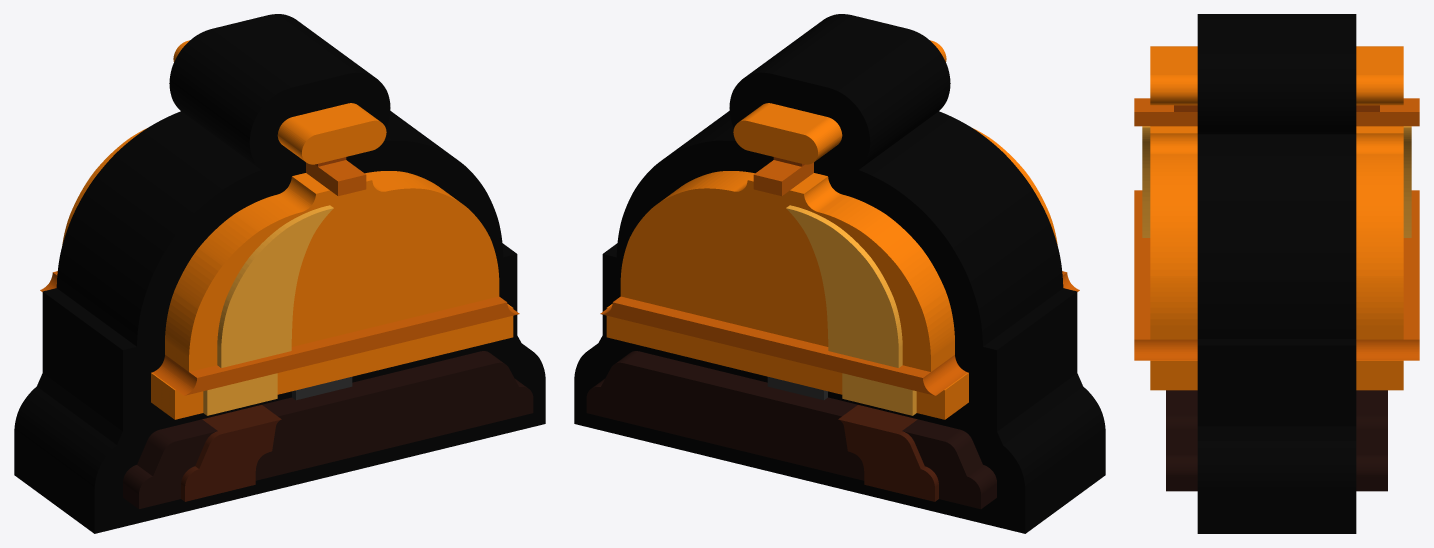
3 views of the same model, side by side, from view 1: azimuth 30°, elevation 25°; view 2: azimuth 150°, elevation 25°; view 3: azimuth 270°, elevation 25° (orthographic).
Parts seen in each view (by area): view 1: U+1F6CE_layer00_obj00, U+1F6CE_layer06_obj00, U+1F6CE_layer04_obj00, U+1F6CE_layer07_obj00, U+1F6CE_layer08_obj00, U+1F6CE_layer05_obj00, U+1F6CE_layer01_obj00; view 2: U+1F6CE_layer00_obj00, U+1F6CE_layer06_obj00, U+1F6CE_layer04_obj00, U+1F6CE_layer07_obj00, U+1F6CE_layer08_obj00, U+1F6CE_layer05_obj00, U+1F6CE_layer01_obj00; view 3: U+1F6CE_layer00_obj00, U+1F6CE_layer06_obj00, U+1F6CE_layer08_obj00, U+1F6CE_layer04_obj00, U+1F6CE_layer07_obj00.
Boxes of the visible parts, box(x1,y1,x2,y2) form: U+1F6CE_layer00_obj00: box(14, 14, 545, 533); U+1F6CE_layer06_obj00: box(62, 40, 513, 419); U+1F6CE_layer04_obj00: box(123, 351, 533, 508); U+1F6CE_layer07_obj00: box(203, 205, 333, 415); U+1F6CE_layer08_obj00: box(40, 160, 519, 395); U+1F6CE_layer05_obj00: box(181, 405, 281, 501); U+1F6CE_layer01_obj00: box(292, 377, 352, 400); U+1F6CE_layer00_obj00: box(574, 14, 1105, 533); U+1F6CE_layer06_obj00: box(606, 40, 1057, 419); U+1F6CE_layer04_obj00: box(586, 351, 996, 508); U+1F6CE_layer07_obj00: box(786, 205, 916, 415); U+1F6CE_layer08_obj00: box(600, 160, 1079, 395); U+1F6CE_layer05_obj00: box(838, 405, 938, 501); U+1F6CE_layer01_obj00: box(767, 377, 827, 400); U+1F6CE_layer00_obj00: box(1197, 14, 1356, 533); U+1F6CE_layer06_obj00: box(1150, 46, 1403, 390); U+1F6CE_layer08_obj00: box(1134, 98, 1419, 360); U+1F6CE_layer04_obj00: box(1166, 390, 1387, 491); U+1F6CE_layer07_obj00: box(1142, 126, 1411, 237).
Bounding box in the file's own units: 0.6491 × 0.5477 × 0.36.
